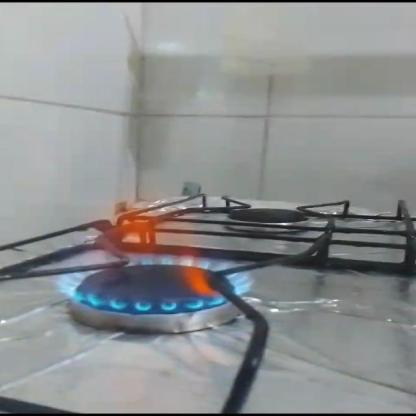fire: (55, 165, 255, 321)
